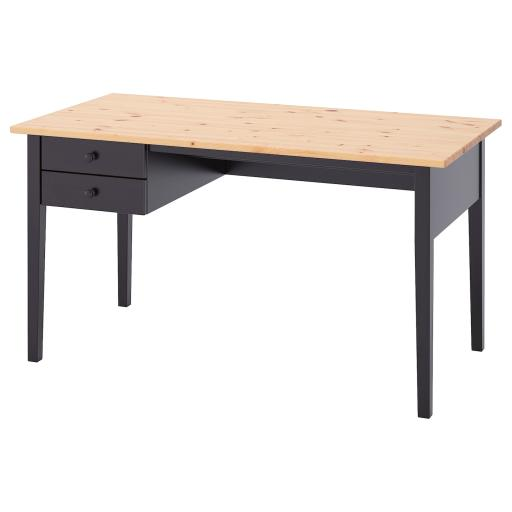desk: (9, 92, 502, 418)
